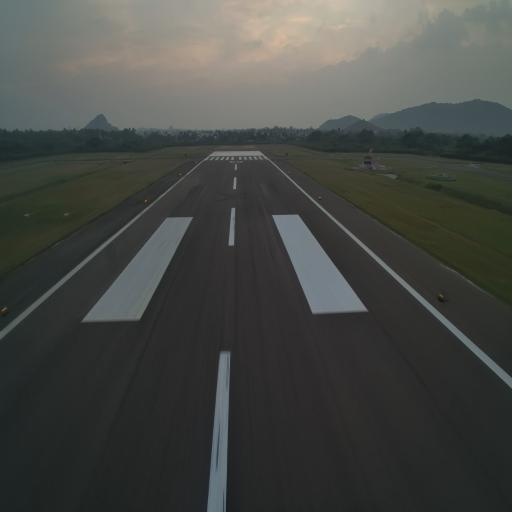on: (437, 288, 445, 304), (0, 306, 9, 316)
